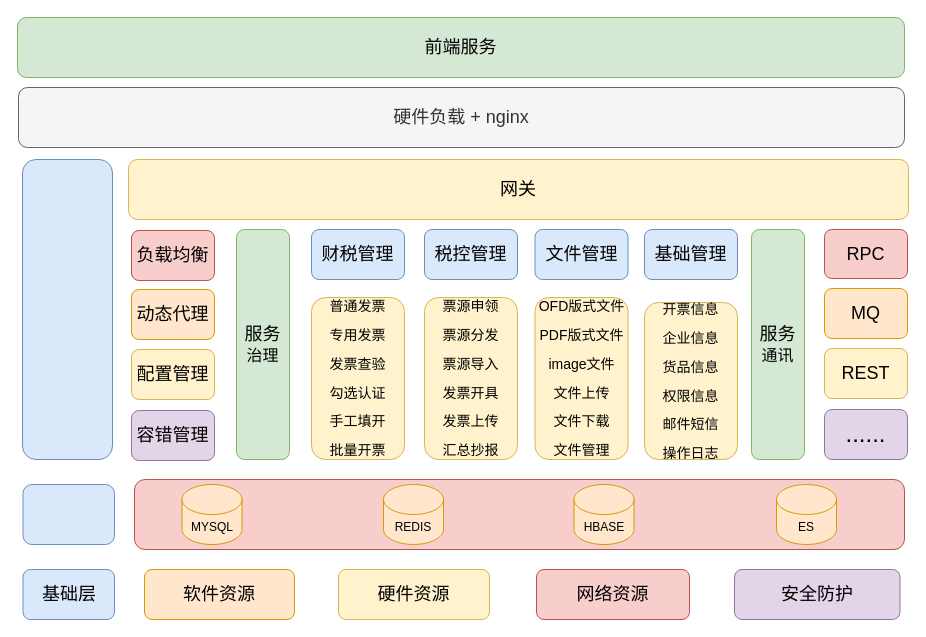
Image size: 926x637. Some labels were removed from this diagram. Here are the shapes that lost their labels. From the top down, the centre of each, then its label:
point (67, 309): 微服务 框架
point (68, 514): 数据层
